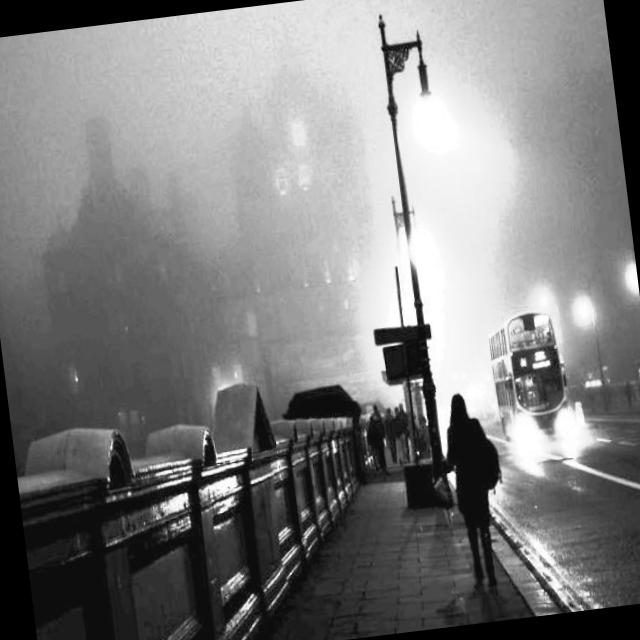Bus: (476, 284, 594, 472)
